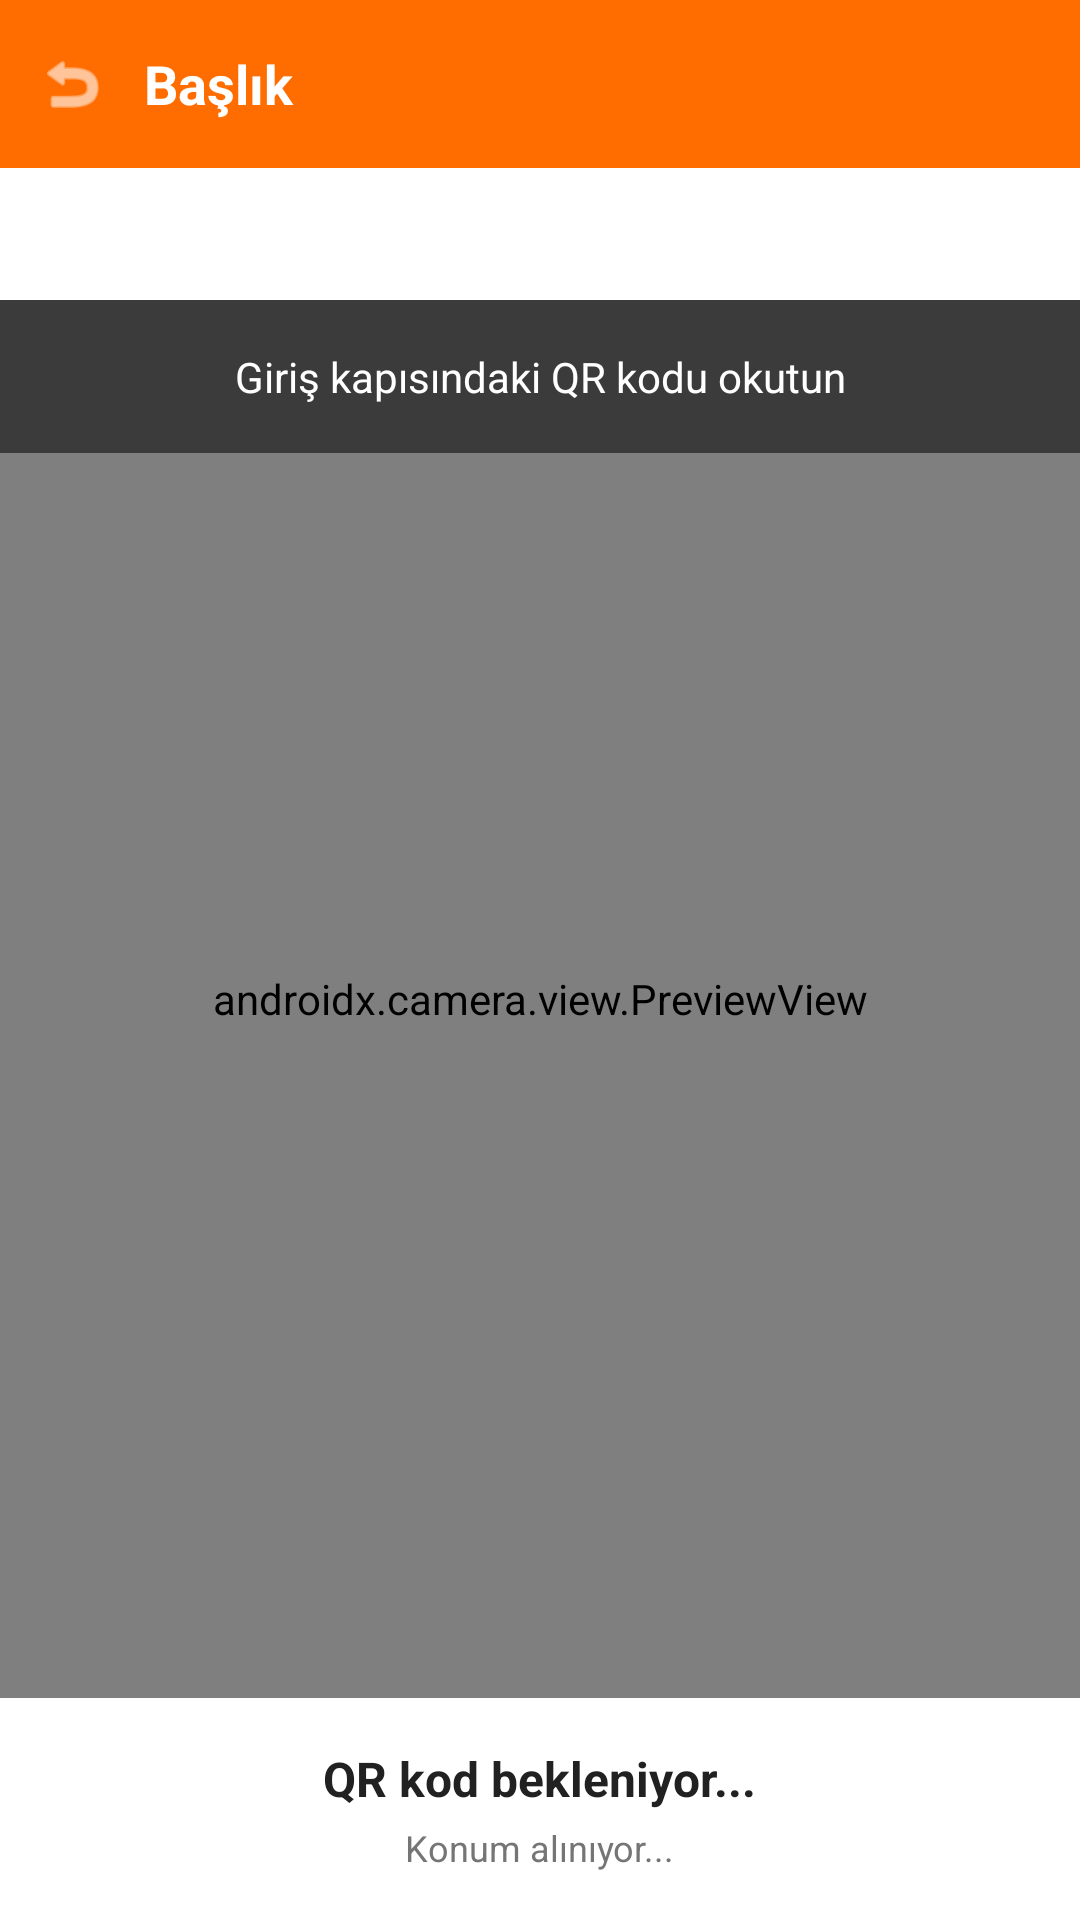

Icon bounding boxes for this 1080px x 1920px phone screenshot, format (x1, y1, x2, y2):
Geri: (47, 61, 99, 108)
